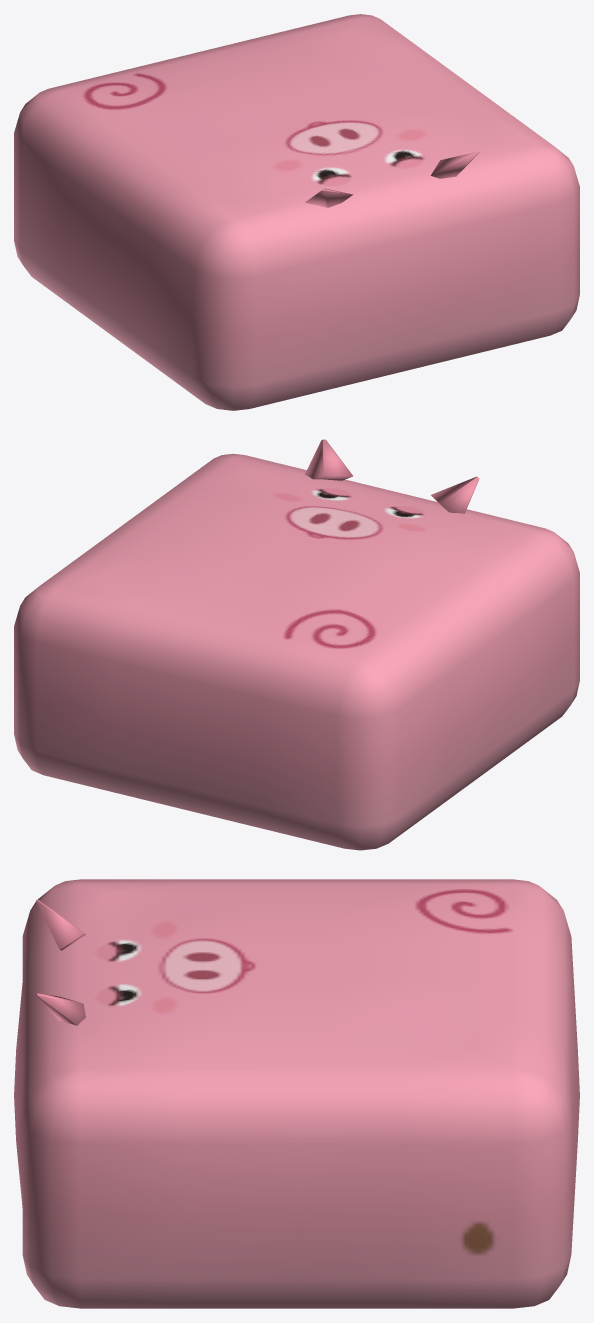
Rendered from Pig_2x2.fbx.
The picture shows the model from 3 angles, top to bottom: view 1: azimuth 30°, elevation 25°; view 2: azimuth 150°, elevation 25°; view 3: azimuth 270°, elevation 25°; orthographic projection. The views are drawn at different scales.
Visible parts, largest first — view 1: Pig_2x2; view 2: Pig_2x2; view 3: Pig_2x2.
Boxes of the visible parts, bbox=[...] form: Pig_2x2: bbox=[14, 14, 579, 410]; Pig_2x2: bbox=[14, 439, 579, 850]; Pig_2x2: bbox=[14, 879, 579, 1308].
Size of the model in its own units: 1.98 by 0.9771 by 1.98.
1 material, 1 textured.
